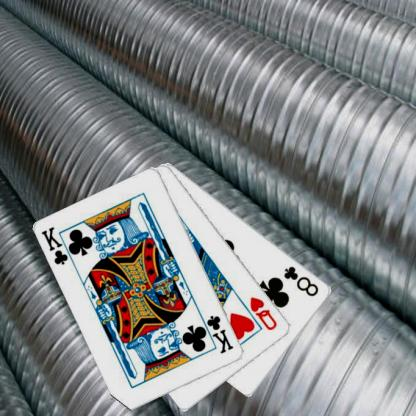8C: (281, 263, 320, 298)
KC: (39, 224, 77, 266), (198, 313, 235, 355)
QH: (247, 294, 279, 332)
